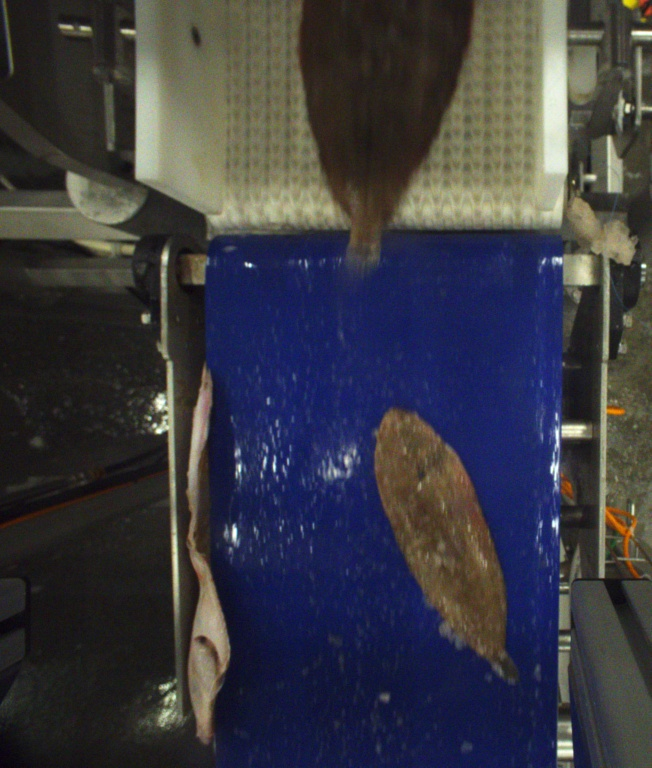SOL: (372, 407, 525, 682)
